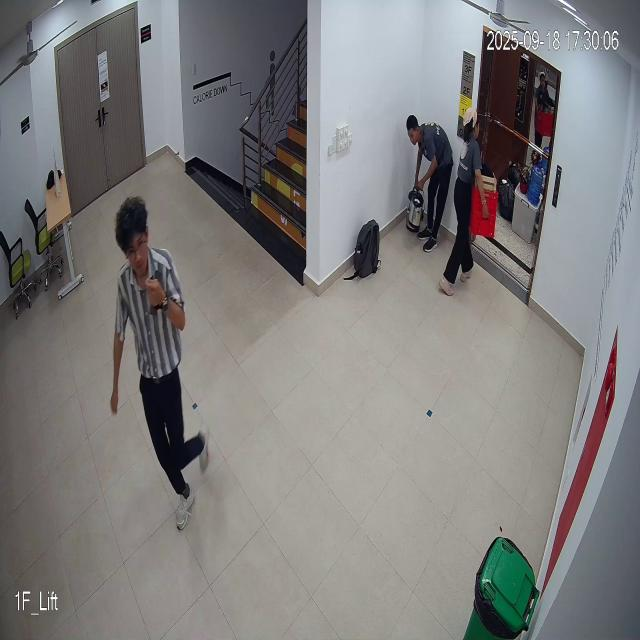face: (116, 192, 155, 282)
